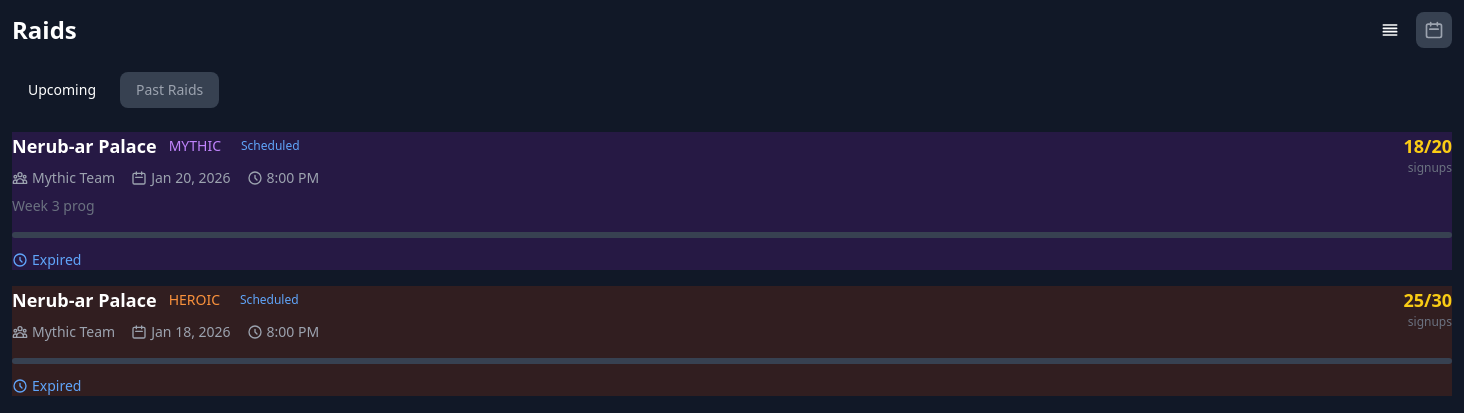
RaidsPage › should show empty state for past raids when none exist
Note: Switch to past raids tab
Click the button "Past Raids" at (170, 90), box left=120, top=72, right=219, bottom=108
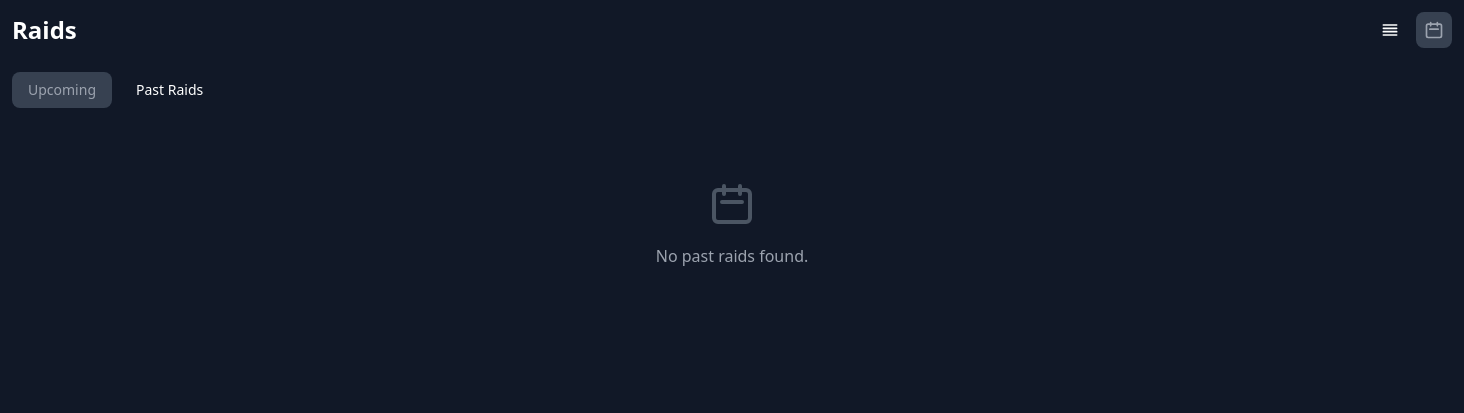
expect the text "No past raids found" is shown: met, box left=656, top=245, right=808, bottom=267
